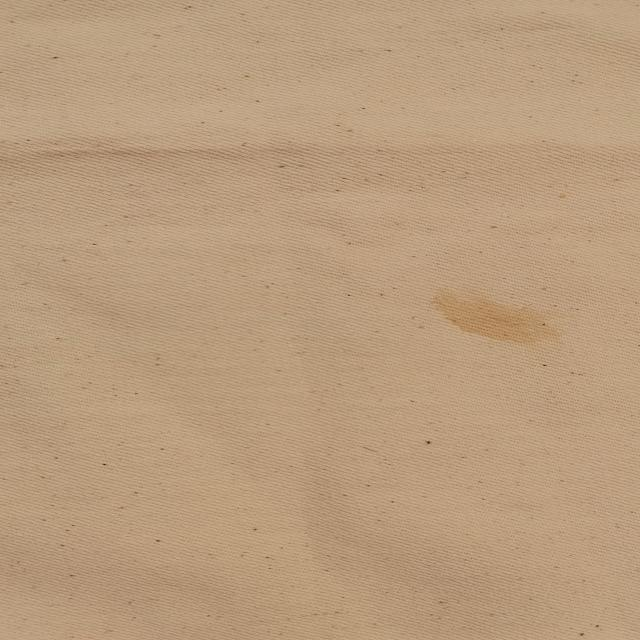taaaches: (421, 285, 581, 352)
